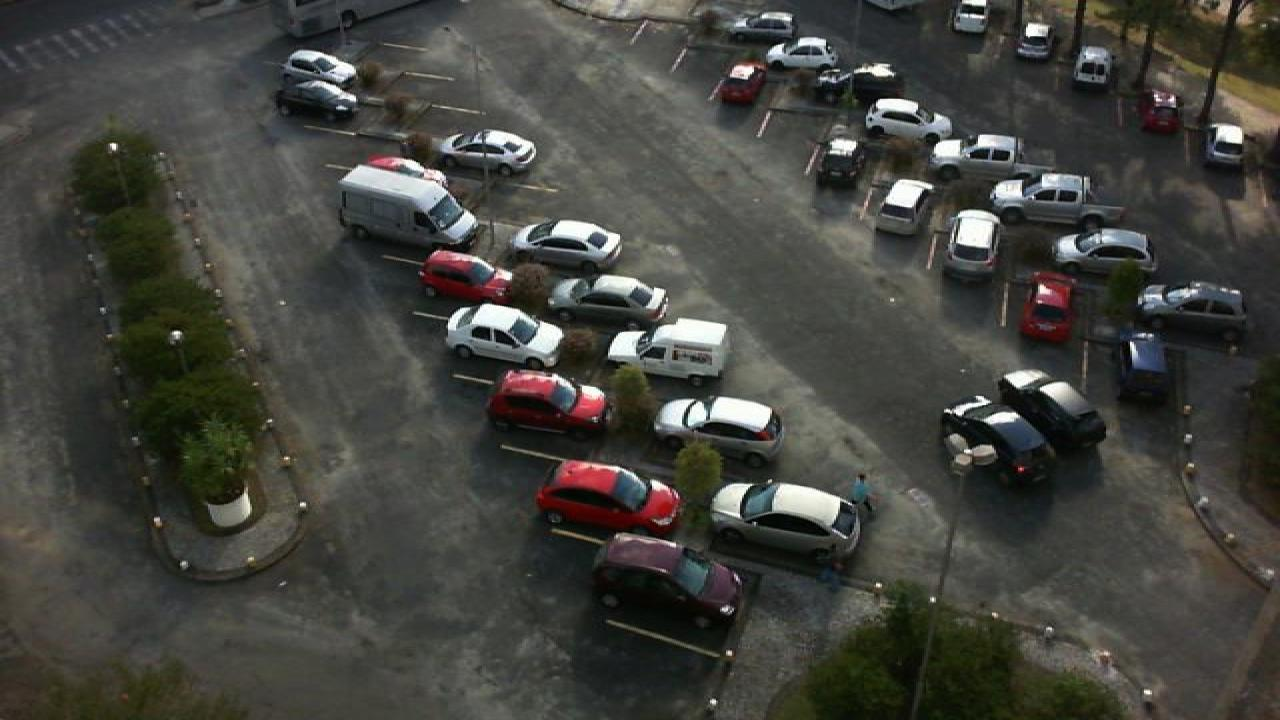Car: (588, 531, 748, 627), (710, 477, 866, 564), (532, 459, 684, 539), (938, 398, 1062, 487), (652, 395, 788, 470), (996, 367, 1110, 450), (484, 367, 612, 439), (442, 301, 564, 369), (988, 170, 1126, 227), (1132, 280, 1254, 344), (554, 272, 670, 332), (926, 132, 1050, 188), (508, 219, 626, 274), (416, 248, 516, 308), (1052, 227, 1162, 280), (436, 129, 540, 178), (940, 208, 1008, 279), (860, 97, 956, 147), (1018, 270, 1078, 342), (1114, 330, 1174, 400), (812, 63, 908, 105), (274, 78, 362, 122), (872, 177, 934, 235), (366, 154, 454, 186), (762, 36, 838, 73), (814, 134, 866, 188), (286, 49, 360, 86), (712, 61, 768, 106), (1204, 121, 1254, 170), (1136, 89, 1182, 133), (732, 11, 798, 40), (1072, 44, 1114, 88), (948, 0, 994, 35), (1016, 21, 1056, 61)
